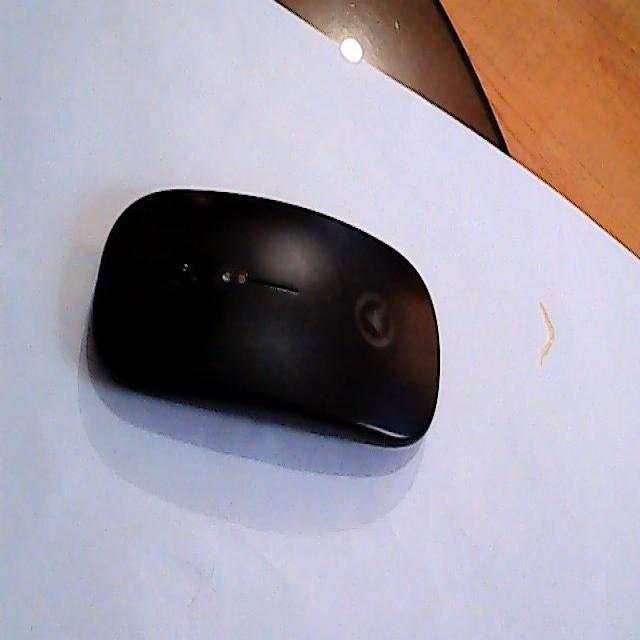Mouse: (89, 185, 442, 449)
